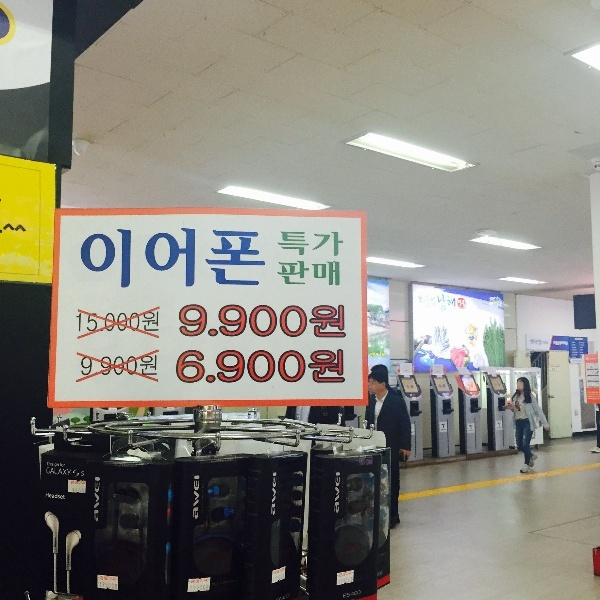text: (81, 226, 96, 291), (97, 226, 112, 291), (113, 226, 128, 291), (129, 226, 144, 291), (145, 226, 160, 291), (161, 226, 176, 291), (177, 226, 192, 291), (193, 226, 208, 291), (209, 226, 224, 291), (225, 226, 240, 291), (241, 226, 256, 291), (257, 226, 269, 291), (194, 475, 208, 519), (177, 347, 192, 386), (193, 347, 208, 386), (209, 347, 224, 386), (225, 347, 240, 386), (241, 347, 256, 386), (257, 347, 272, 386), (273, 347, 288, 386), (289, 347, 304, 386), (305, 347, 320, 386), (321, 347, 336, 386), (193, 303, 208, 341), (209, 303, 224, 341), (225, 303, 240, 341), (241, 303, 256, 341), (257, 303, 272, 341), (273, 303, 288, 341), (289, 303, 304, 341), (305, 303, 320, 341), (321, 303, 336, 341), (145, 305, 161, 340), (81, 348, 96, 384), (97, 348, 112, 384), (113, 348, 128, 384), (129, 348, 144, 384), (81, 305, 96, 340), (97, 305, 112, 340), (113, 305, 128, 340), (129, 305, 144, 340), (145, 348, 159, 384), (180, 303, 192, 341), (289, 260, 304, 287), (305, 260, 320, 287), (321, 260, 336, 287), (289, 231, 304, 257), (305, 231, 320, 257), (321, 231, 336, 257), (337, 303, 347, 341), (337, 347, 346, 386), (433, 294, 448, 315), (449, 294, 464, 315), (277, 260, 288, 287), (418, 294, 432, 315), (278, 231, 288, 257), (579, 342, 592, 360), (98, 575, 112, 590), (337, 231, 344, 257), (97, 477, 101, 522), (337, 472, 341, 516), (273, 472, 277, 516), (273, 573, 288, 584), (69, 480, 80, 494), (49, 467, 64, 477), (76, 348, 80, 384), (76, 305, 80, 340), (193, 584, 208, 593), (273, 567, 288, 576), (337, 570, 352, 579), (49, 492, 64, 500), (49, 461, 64, 468), (193, 578, 208, 585), (530, 339, 544, 346), (212, 579, 224, 587), (225, 579, 237, 587), (81, 471, 96, 477), (113, 575, 119, 590), (571, 342, 576, 359), (370, 352, 384, 358), (337, 260, 340, 287), (343, 590, 352, 599), (353, 590, 362, 599), (593, 390, 600, 401), (65, 467, 72, 477), (81, 480, 86, 494), (377, 570, 384, 577), (553, 340, 560, 347), (561, 340, 568, 347), (95, 477, 96, 522), (588, 390, 592, 401), (335, 472, 336, 516), (465, 294, 467, 315), (577, 342, 579, 359), (545, 339, 549, 346), (285, 592, 288, 600), (189, 578, 192, 585), (46, 467, 48, 477), (190, 584, 192, 593), (46, 492, 48, 500), (289, 592, 291, 600), (209, 578, 211, 585), (385, 352, 387, 358), (209, 584, 210, 593), (353, 570, 354, 579), (65, 492, 66, 500), (47, 461, 48, 468), (65, 461, 66, 468)
